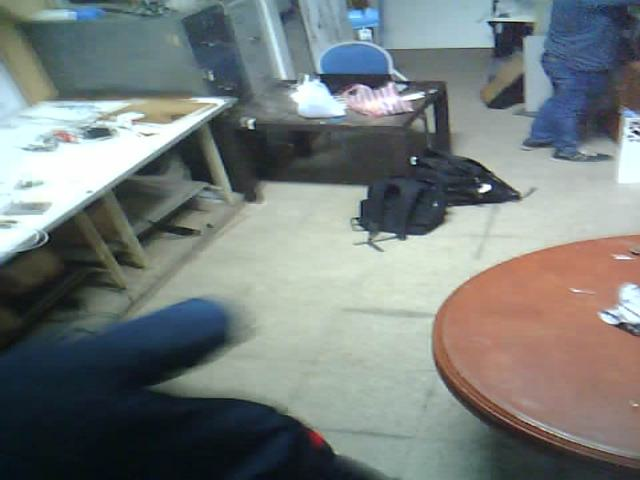person: (2, 260, 364, 480), (515, 3, 640, 177)
